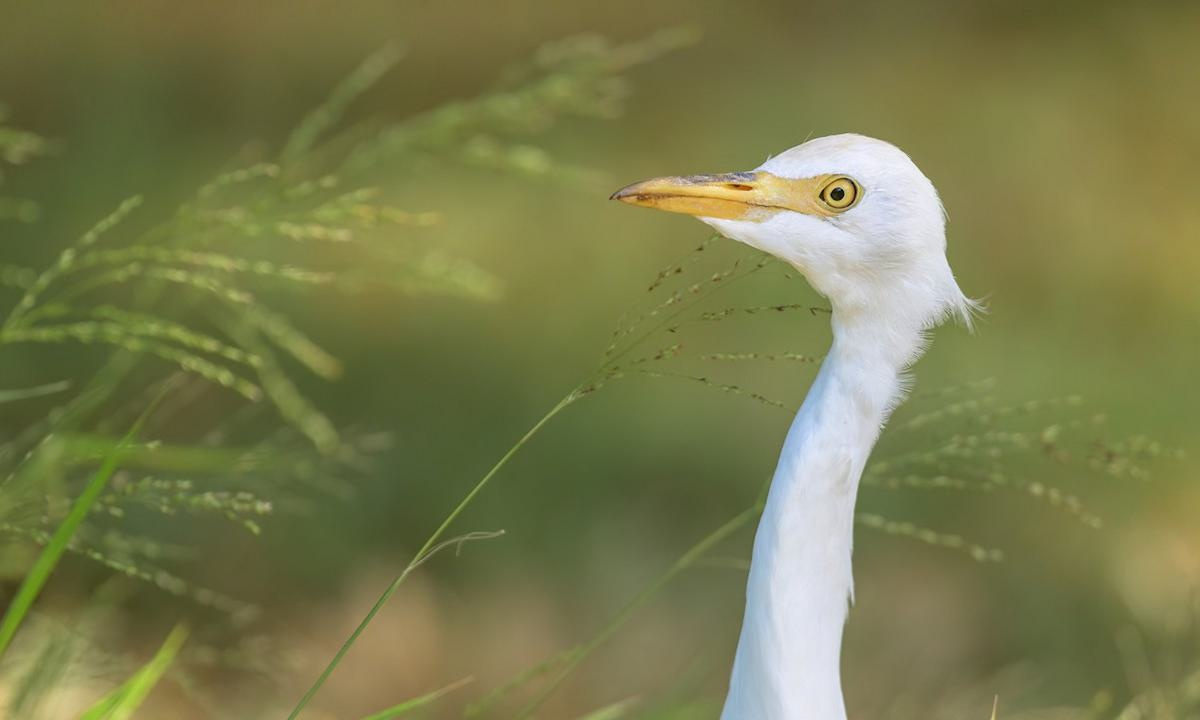egret: (597, 115, 959, 720)
